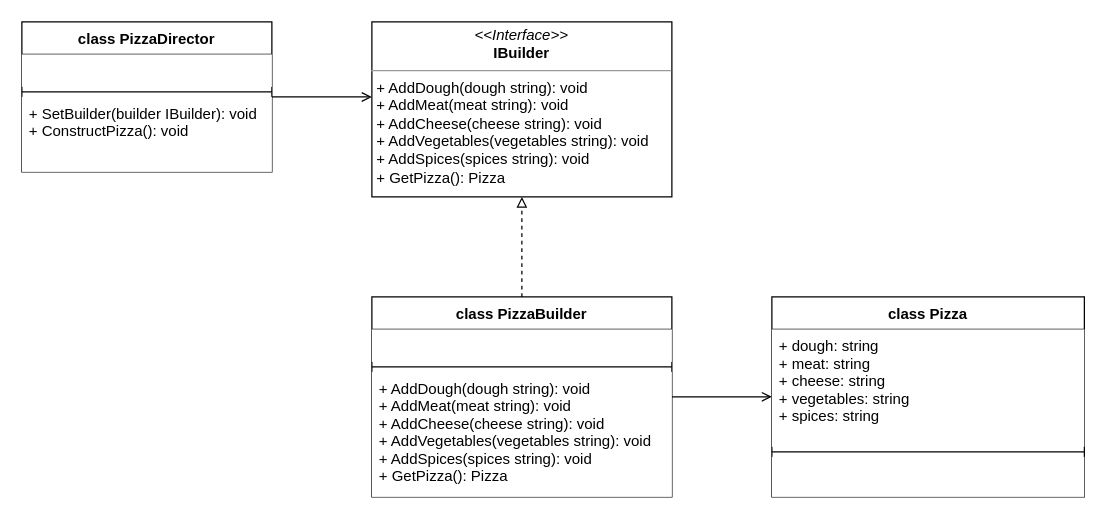
Some shapes in this 1106 by 523 pixel diagram are drawn without their labels. The shapes that lost their labels are listed below. From the top down, each one's centre as x and y in pixels, then its label:
At [146,70]: "- _builder: IBuilder".
At [521,345]: "- _pizza: Pizza".
At [927,476]: "+ ToString(): string".
